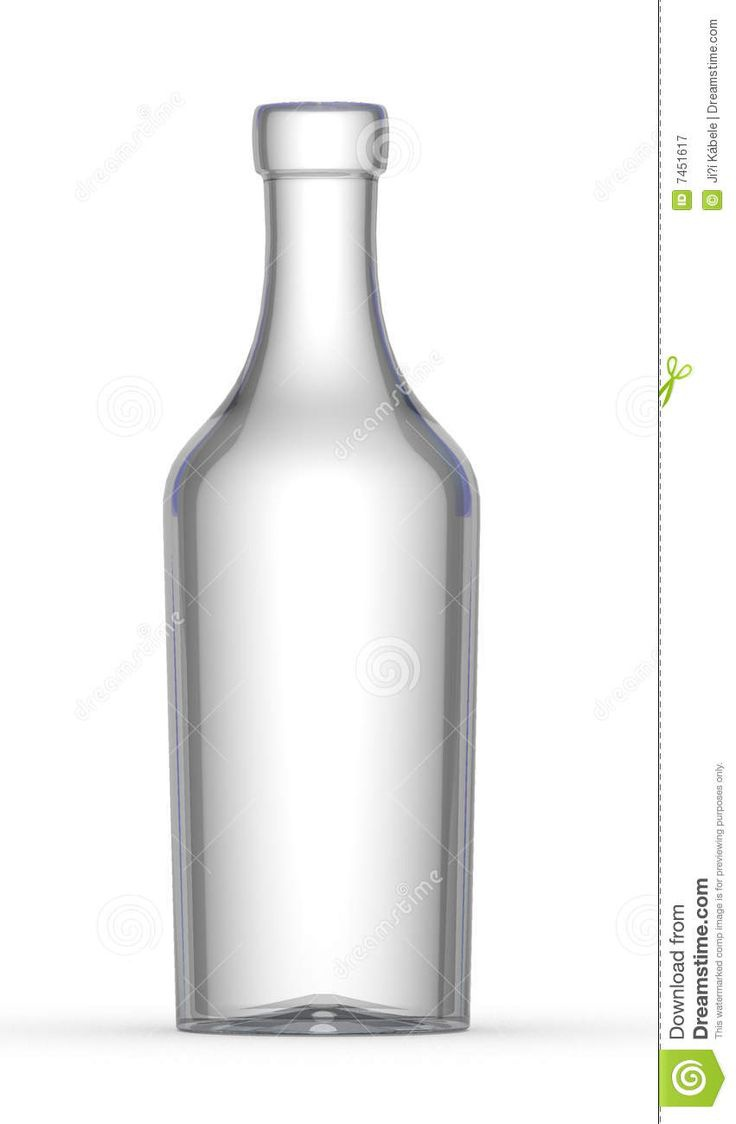emptybottle: (167, 102, 474, 1034)
